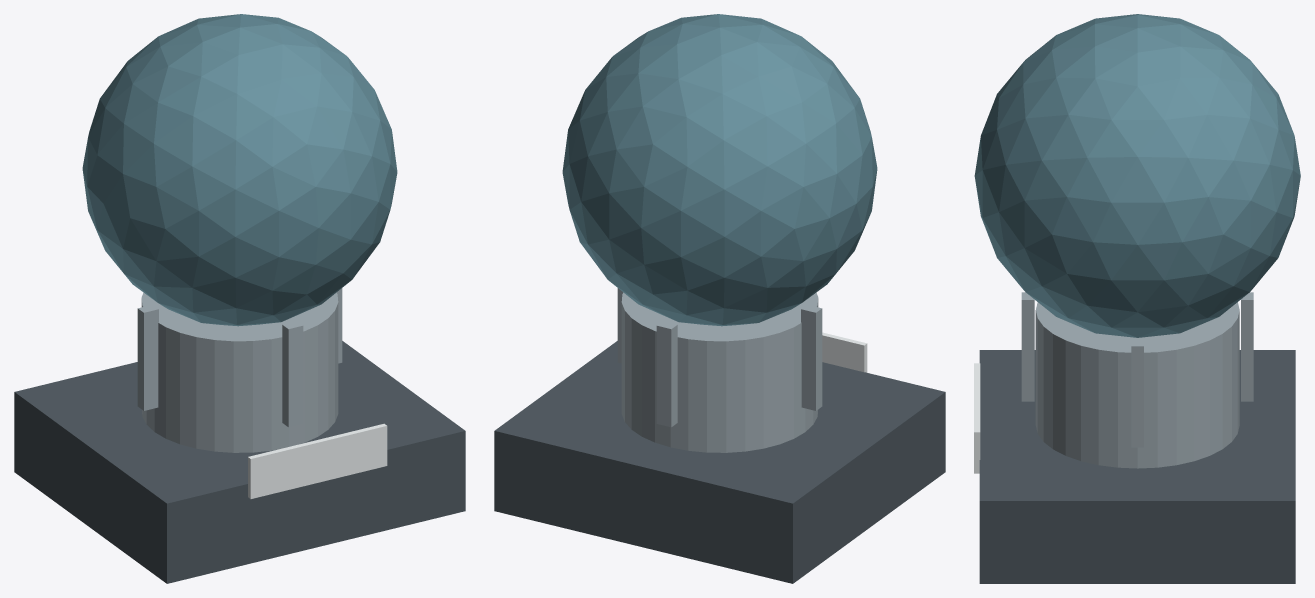
File: lamp_load_lod1.glb
3 views of the same model, side by side, from view 1: azimuth 30°, elevation 25°; view 2: azimuth 150°, elevation 25°; view 3: azimuth 270°, elevation 25° (orthographic). The views are drawn at different scales.
Visible parts, largest first — view 1: LAMP_BULB_MAT_GLASS, LAMP_BASE_MAT_POLYMER_BLACK, LAMP_SOCKET_MAT_METAL_BRUSHED, LAMP_RATING_LABEL_MAT_LABEL, LAMP_SOCKET_RIB_1_MAT_METAL_BRUSHED, LAMP_SOCKET_RIB_2_MAT_METAL_BRUSHED; view 2: LAMP_BULB_MAT_GLASS, LAMP_BASE_MAT_POLYMER_BLACK, LAMP_SOCKET_MAT_METAL_BRUSHED, LAMP_SOCKET_RIB_3_MAT_METAL_BRUSHED, LAMP_SOCKET_RIB_2_MAT_METAL_BRUSHED, LAMP_RATING_LABEL_MAT_LABEL; view 3: LAMP_BULB_MAT_GLASS, LAMP_BASE_MAT_POLYMER_BLACK, LAMP_SOCKET_MAT_METAL_BRUSHED, LAMP_SOCKET_RIB_1_MAT_METAL_BRUSHED, LAMP_SOCKET_RIB_0_MAT_METAL_BRUSHED, LAMP_SOCKET_RIB_3_MAT_METAL_BRUSHED, LAMP_RATING_LABEL_MAT_LABEL.
Boxes of the visible parts, bbox=[...] form: LAMP_BULB_MAT_GLASS: bbox=[82, 14, 397, 326]; LAMP_BASE_MAT_POLYMER_BLACK: bbox=[14, 341, 465, 583]; LAMP_SOCKET_MAT_METAL_BRUSHED: bbox=[141, 292, 338, 452]; LAMP_RATING_LABEL_MAT_LABEL: bbox=[248, 423, 387, 498]; LAMP_SOCKET_RIB_1_MAT_METAL_BRUSHED: bbox=[282, 321, 303, 427]; LAMP_SOCKET_RIB_2_MAT_METAL_BRUSHED: bbox=[137, 304, 158, 410]; LAMP_BULB_MAT_GLASS: bbox=[562, 14, 877, 326]; LAMP_BASE_MAT_POLYMER_BLACK: bbox=[494, 341, 945, 583]; LAMP_SOCKET_MAT_METAL_BRUSHED: bbox=[621, 292, 818, 452]; LAMP_SOCKET_RIB_3_MAT_METAL_BRUSHED: bbox=[656, 321, 677, 427]; LAMP_SOCKET_RIB_2_MAT_METAL_BRUSHED: bbox=[801, 304, 822, 410]; LAMP_RATING_LABEL_MAT_LABEL: bbox=[822, 332, 867, 372]; LAMP_BULB_MAT_GLASS: bbox=[974, 14, 1300, 337]; LAMP_BASE_MAT_POLYMER_BLACK: bbox=[979, 350, 1295, 583]; LAMP_SOCKET_MAT_METAL_BRUSHED: bbox=[1035, 302, 1239, 468]; LAMP_SOCKET_RIB_1_MAT_METAL_BRUSHED: bbox=[1021, 292, 1034, 401]; LAMP_SOCKET_RIB_0_MAT_METAL_BRUSHED: bbox=[1131, 338, 1143, 447]; LAMP_SOCKET_RIB_3_MAT_METAL_BRUSHED: bbox=[1241, 292, 1253, 401]; LAMP_RATING_LABEL_MAT_LABEL: bbox=[974, 363, 980, 473].
Bounding box in the file's own units: 0.7 × 1.06 × 0.641.
